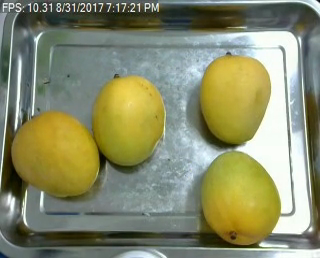Mango: (200, 150, 280, 247), (12, 111, 99, 197), (93, 74, 163, 168), (198, 55, 271, 142)
